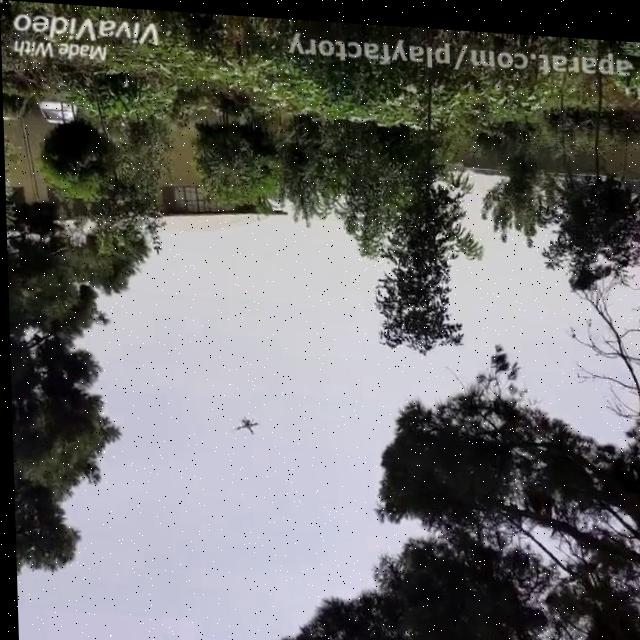drone: (231, 413, 260, 440)
